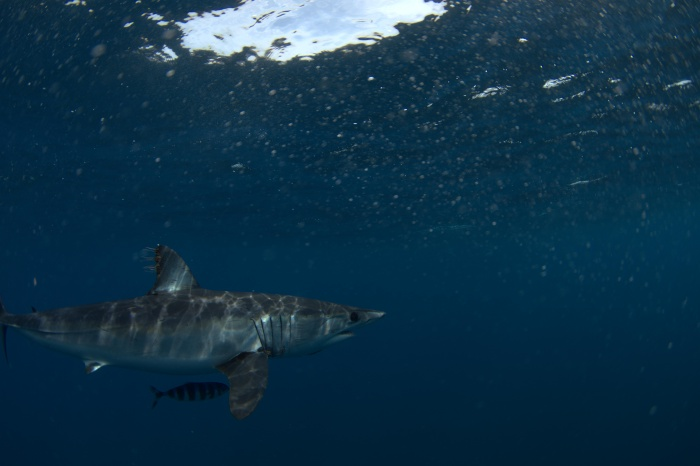Mako: (1, 243, 392, 423)
